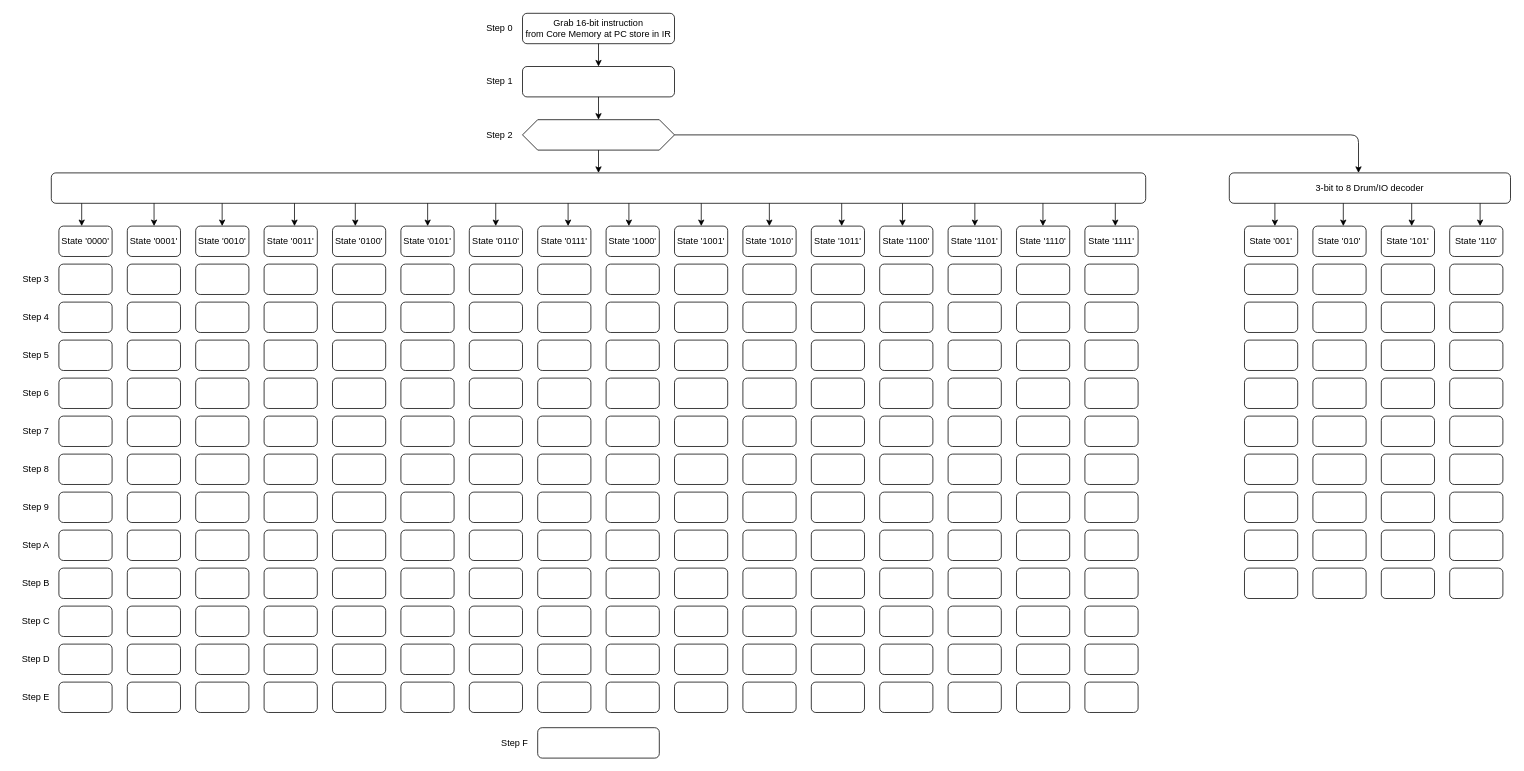
Some shapes in this 1524 by 771 pixel diagram are drawn without their labels. Each missing label, with the box of its shape:
4-bit to 16 enable line decoder: (51, 172, 1146, 203)
If Drum R/W or IO R/W Then right Else down: (522, 119, 674, 150)
Increment PC: (537, 727, 659, 758)
Write IR back into Core Memory at PC to refresh destructive read: (522, 66, 674, 97)
